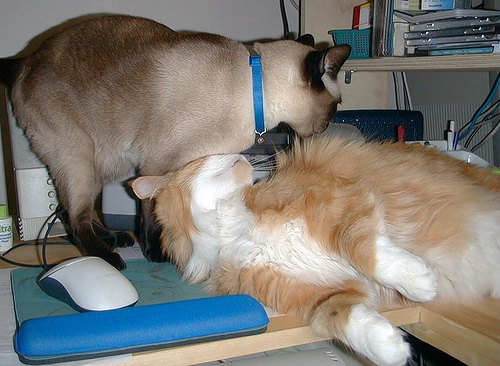cat: (1, 16, 352, 272), (130, 139, 500, 366)
